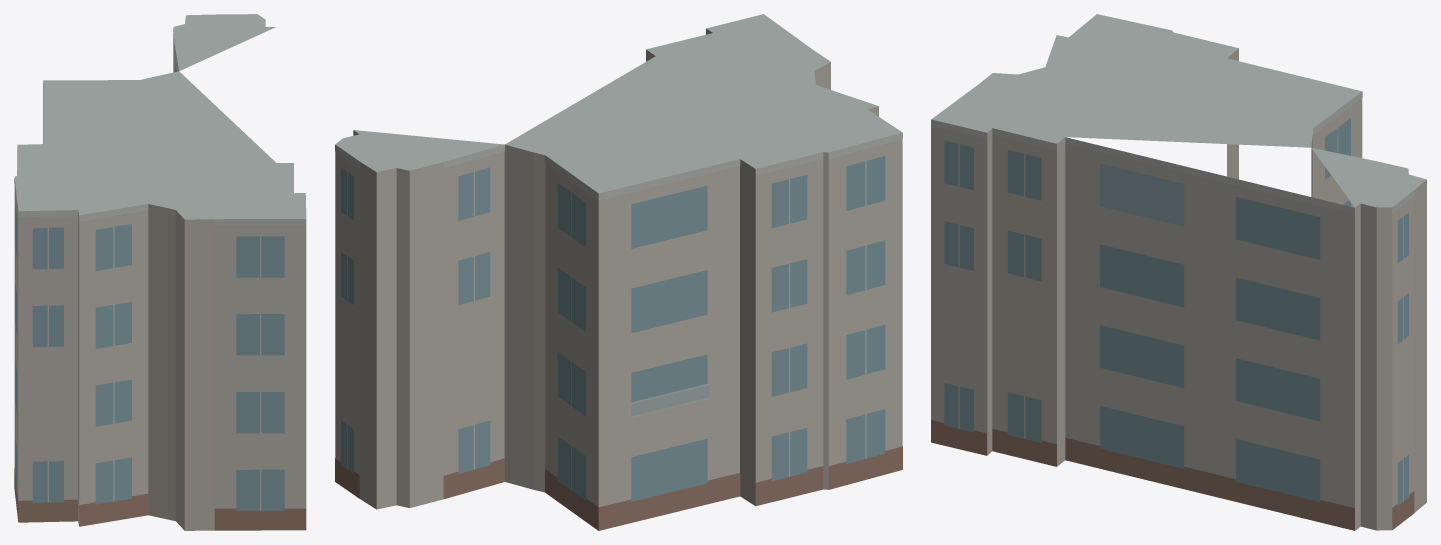
The model's file is survey-upis-32674107.glb.
3 views of the same model, side by side, from view 1: azimuth 30°, elevation 25°; view 2: azimuth 150°, elevation 25°; view 3: azimuth 270°, elevation 25° (orthographic). The views are drawn at different scales.
Parts seen in each view (by area): view 1: survey-upis-32674107.tmp; view 2: survey-upis-32674107.tmp; view 3: survey-upis-32674107.tmp.
Boxes of the visible parts, x1,y1,x2,y2 form: survey-upis-32674107.tmp: (14,14,306,530); survey-upis-32674107.tmp: (335,14,902,530); survey-upis-32674107.tmp: (931,14,1426,530).
Bounding box in the file's own units: 15.7 × 12.2 × 16.97.
